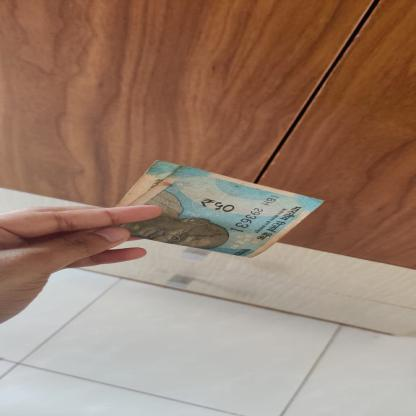New50Front: (116, 159, 327, 260)
